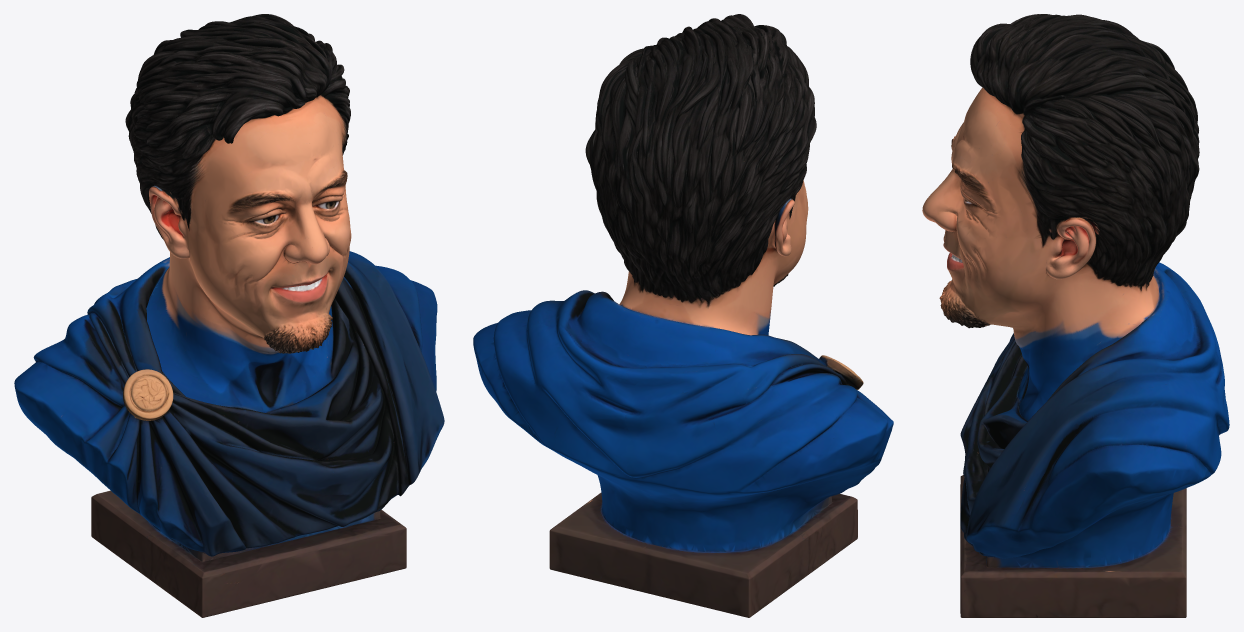
Rendered from hassan.glb.
3 views of the same model, side by side, from view 1: azimuth 30°, elevation 25°; view 2: azimuth 150°, elevation 25°; view 3: azimuth 270°, elevation 25° (orthographic). The views are drawn at different scales.
Bounding box in the file's own units: 1.56 × 1.9 × 0.9855.
1 material, 1 textured.
